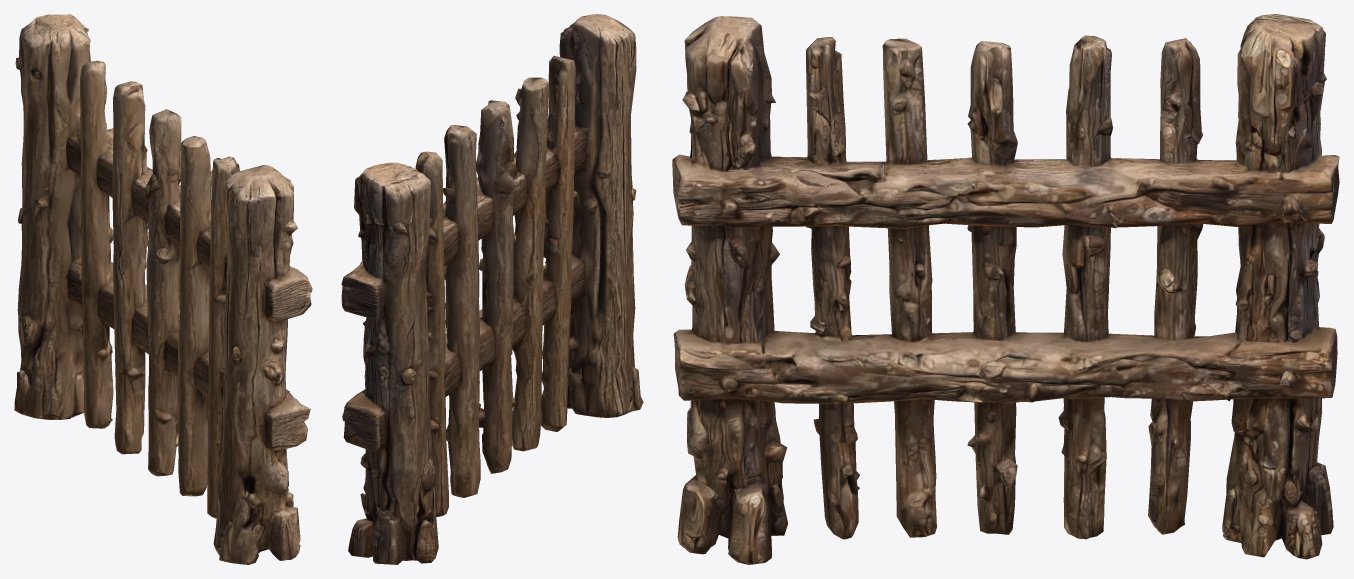
File: fence-high.glb
The picture shows the model from 3 angles, left to right: view 1: azimuth 30°, elevation 25°; view 2: azimuth 150°, elevation 25°; view 3: azimuth 270°, elevation 25°; orthographic projection. The views are drawn at different scales.
Bounding box in the file's own units: 0.1969 × 0.854 × 0.999.
1 material, 1 textured.
